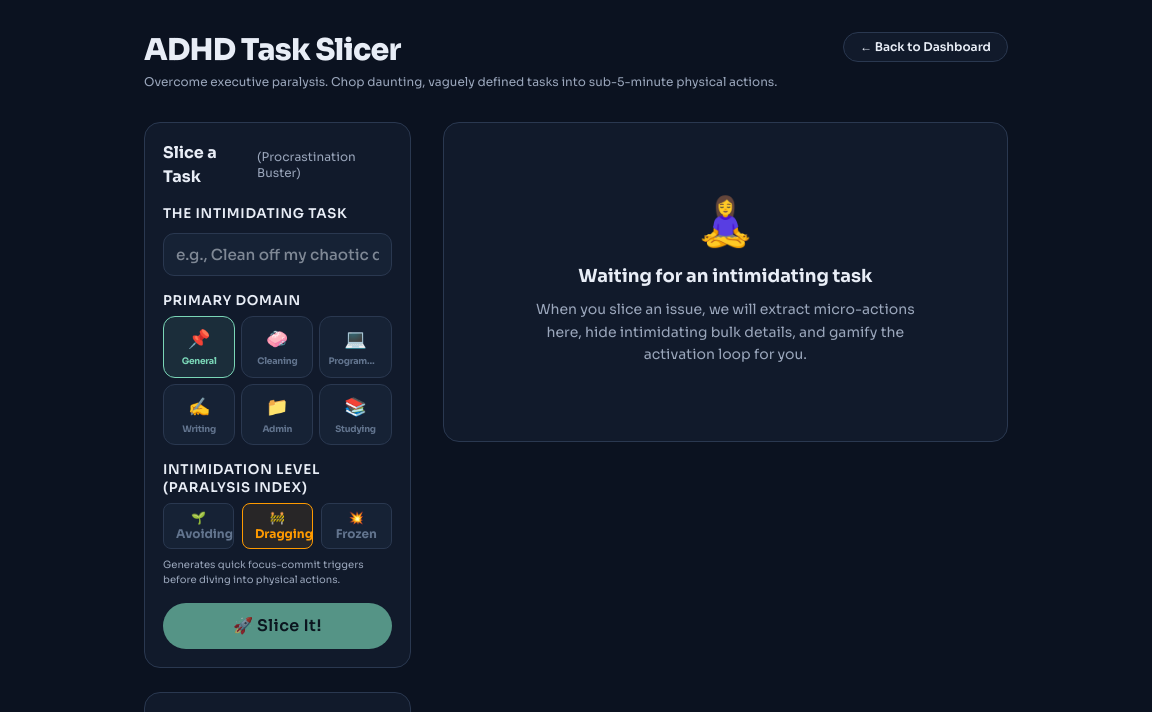
ADHD Task Slicer Page › procedurally generates step slices when submitting the form and shows the checklist
Type "Refactor my code modules" into the field with placeholder "e.g., Clean off my chaotic desk" at (277, 254), box x1=163 y1=232 x2=392 y2=276
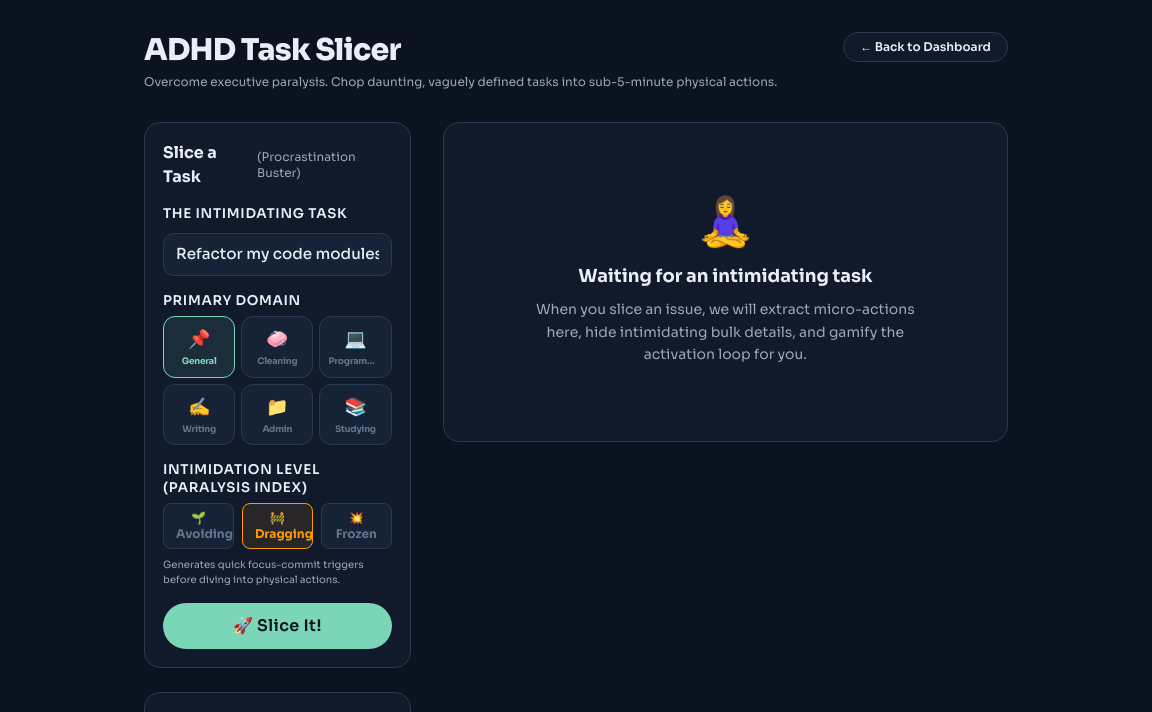
Note: Select Coding Domain
Click the text "Programming" at (356, 362), box x1=328 y1=355 x2=383 y2=369
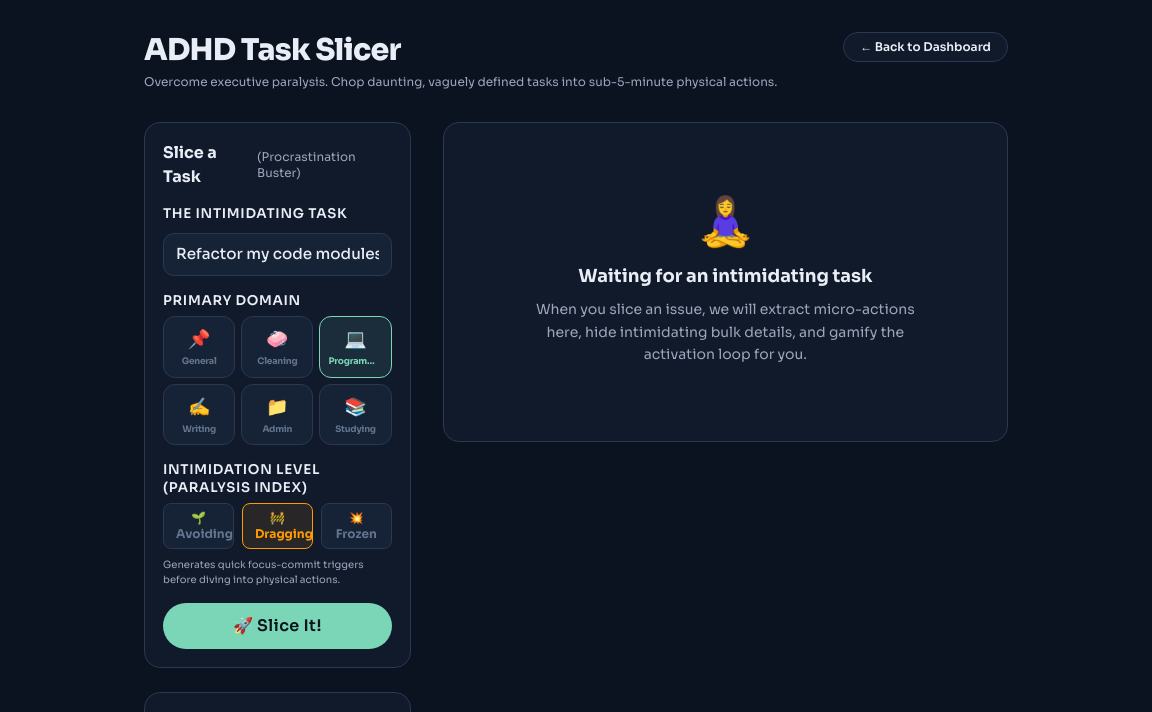
Note: Submit form
Click the button "🚀 Slice It!" at (277, 626), box x1=163 y1=603 x2=392 y2=649
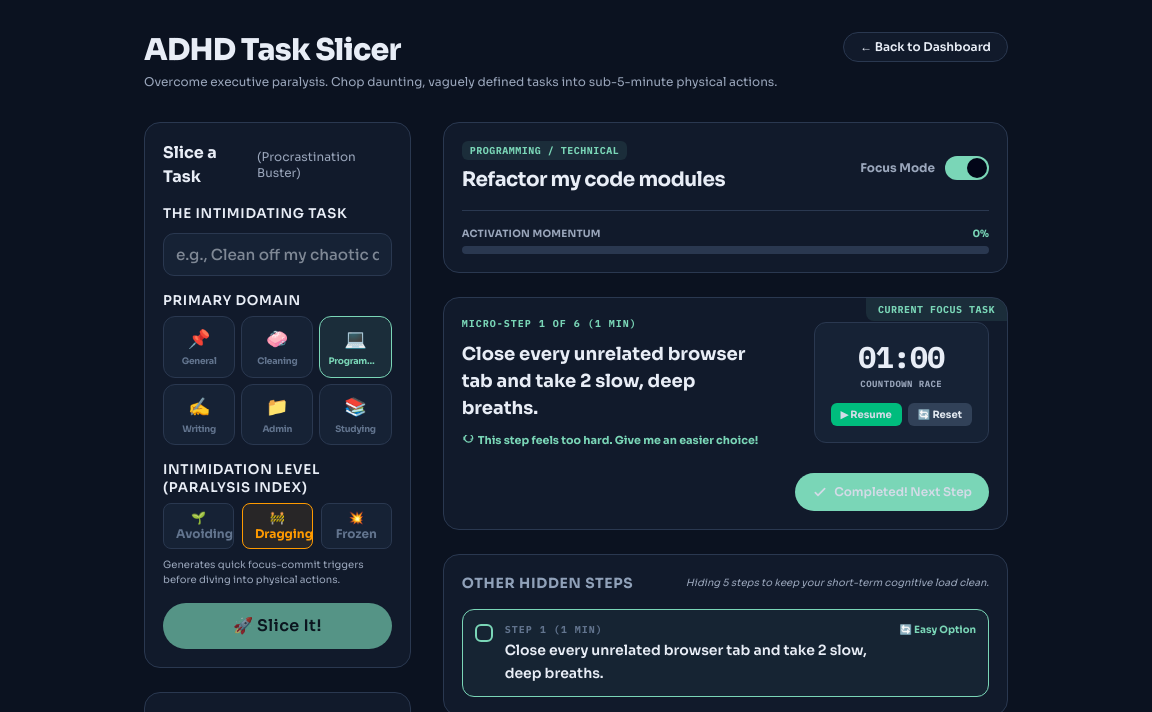
Now the text "Current Focus Task" is shown, box x1=866 y1=298 x2=1007 y2=321
Now the text "Micro-Step 1 of 6 (1 min)" is shown, box x1=462 y1=317 x2=637 y2=330
Now the heading "Other Hidden Steps" is shown, box x1=462 y1=573 x2=633 y2=593
